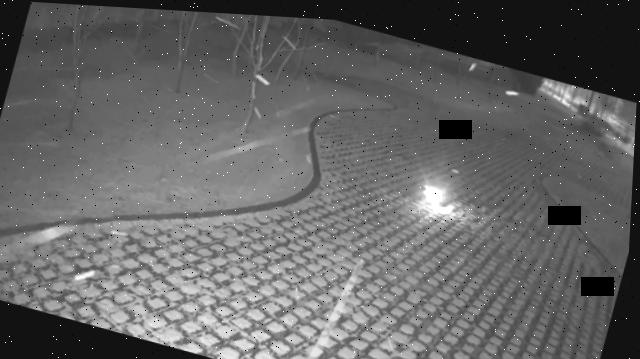fire: (421, 177, 449, 200)
